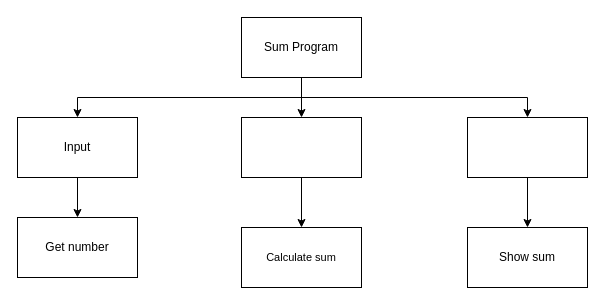
Image size: 605x305. Some labels were removed from this diagram. Each missing label, with the centre of its shape:
"Output" belongs at point 527,147.
"Process" belongs at point 301,147.
